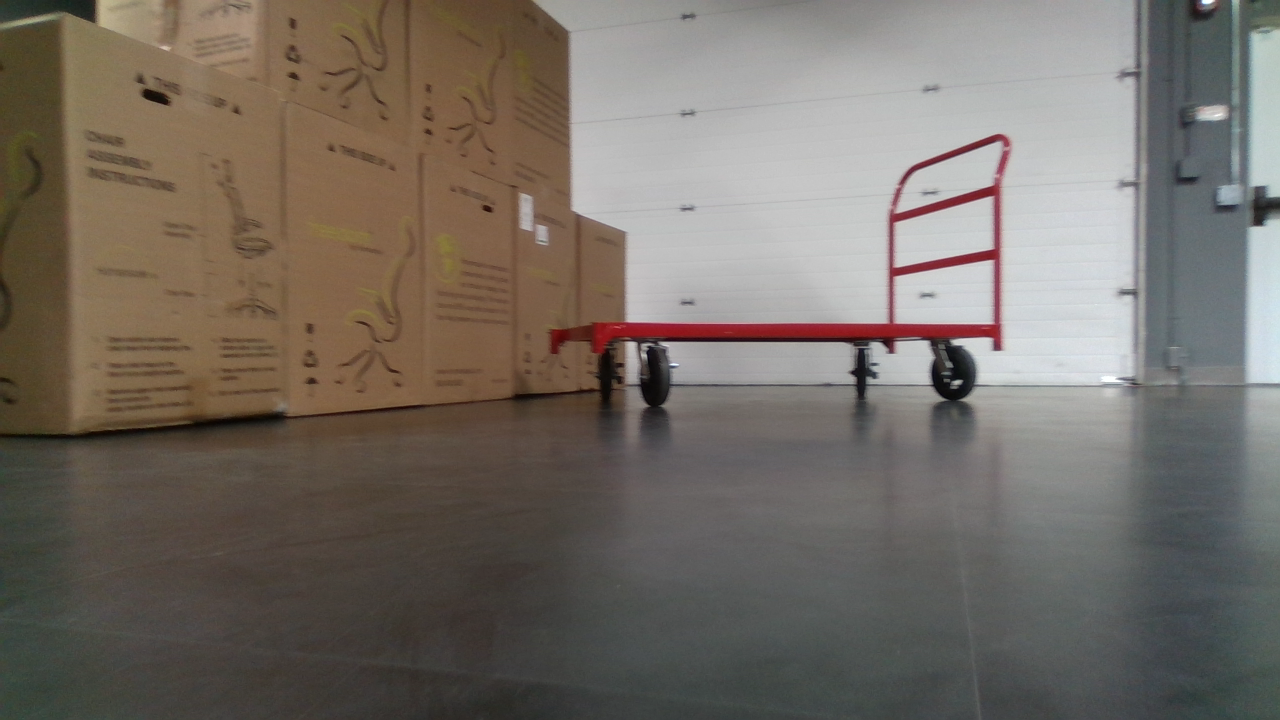Dolly: (548, 131, 1017, 417)
Wheel: (928, 344, 980, 404), (637, 346, 675, 412), (592, 352, 620, 402), (849, 352, 876, 399)
